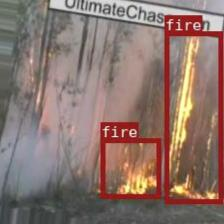fire: (164, 31, 223, 202), (100, 138, 160, 198)
